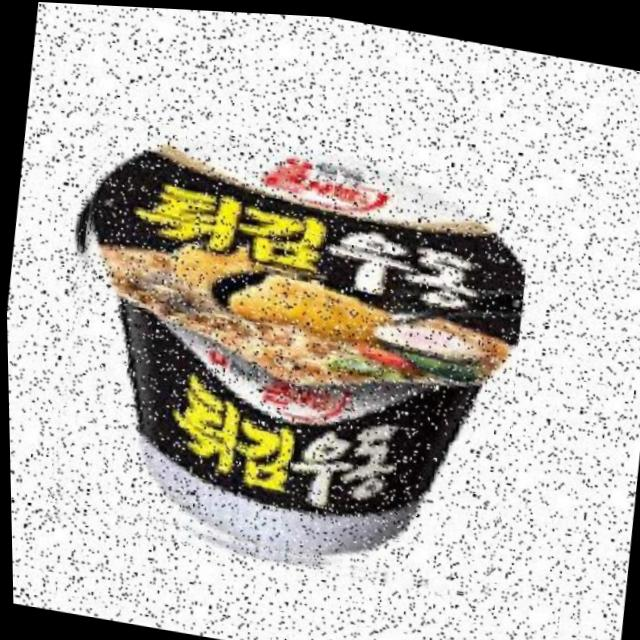Miscellaneous: (36, 106, 540, 596)
